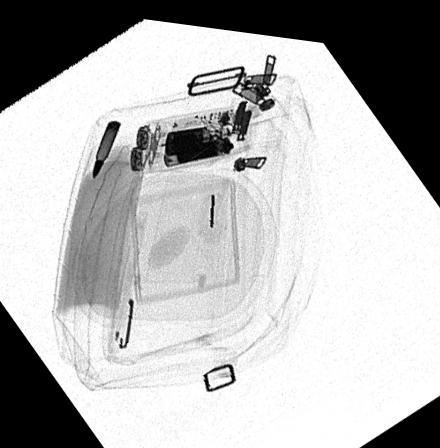Bullet: (92, 116, 121, 177)
